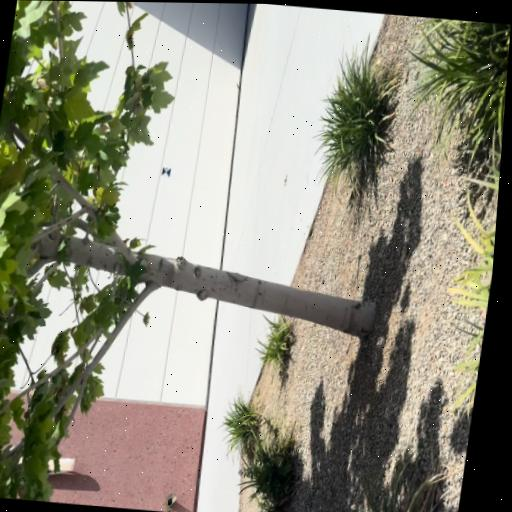target4: (162, 167, 171, 178)
